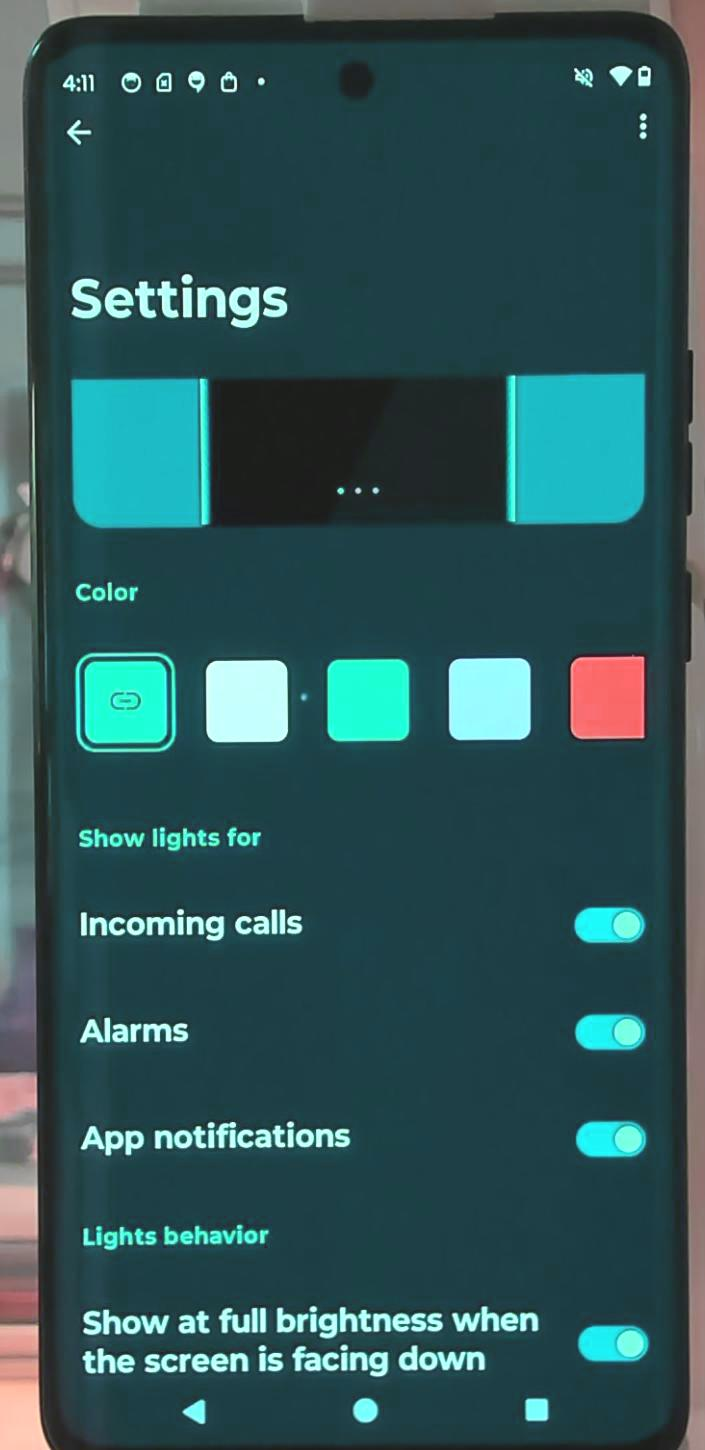Checkbox: (75, 1288, 657, 1379), (65, 883, 646, 963), (68, 988, 650, 1066), (73, 1105, 652, 1175)
